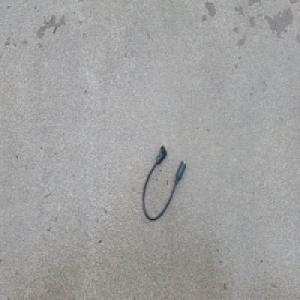Wire: (141, 143, 187, 221)
